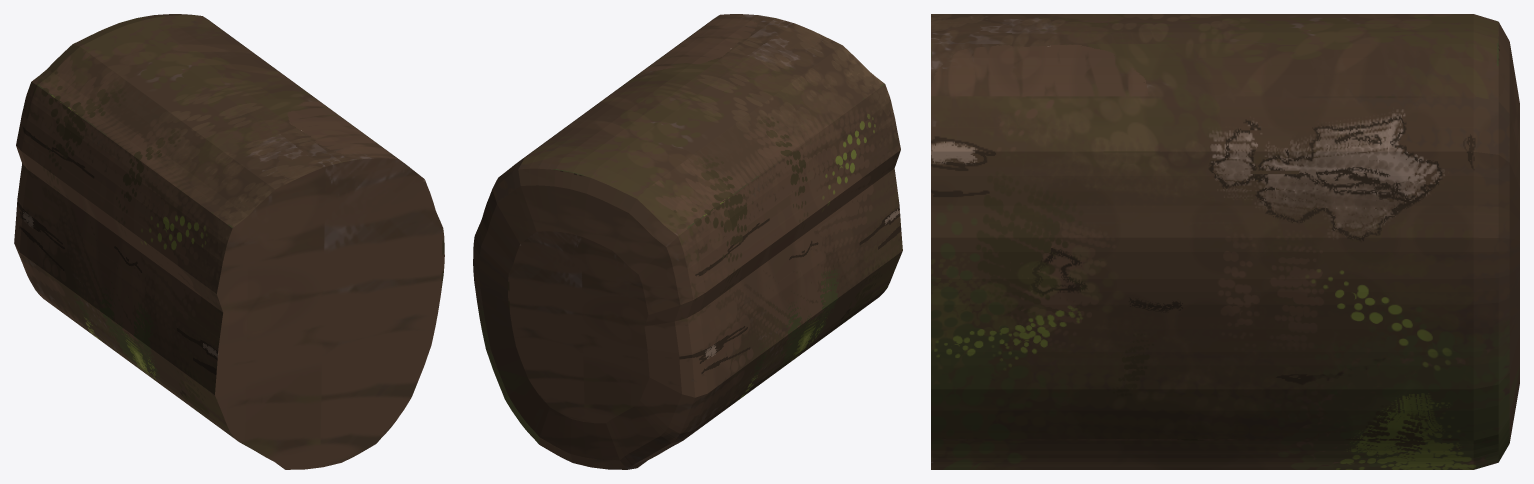
Rendered from GEnhancer.fbx.
3 views of the same model, side by side, from view 1: azimuth 30°, elevation 25°; view 2: azimuth 150°, elevation 25°; view 3: azimuth 270°, elevation 25° (orthographic). The views are drawn at different scales.
Visible parts, largest first — view 1: 1-1.003; view 2: 1-1.003; view 3: 1-1.003.
Part boxes in pixels (box(x1,y1,x2,y2)): 1-1.003: box(14, 14, 444, 469); 1-1.003: box(473, 14, 902, 469); 1-1.003: box(931, 14, 1519, 469).
Bounding box in the file's own units: 105 × 131 × 168.
